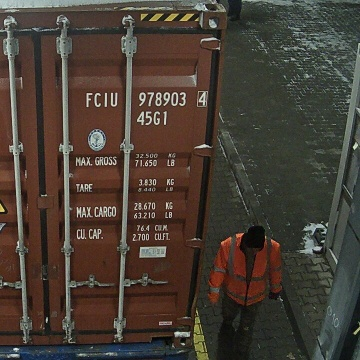serial_id: (86, 92, 206, 107)
